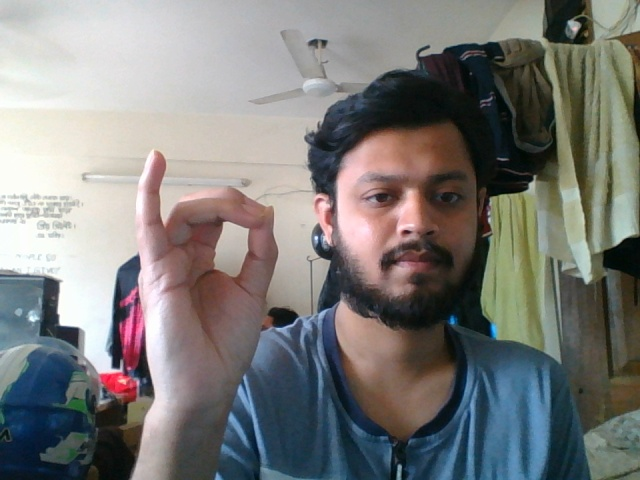ou: (131, 143, 292, 400)
